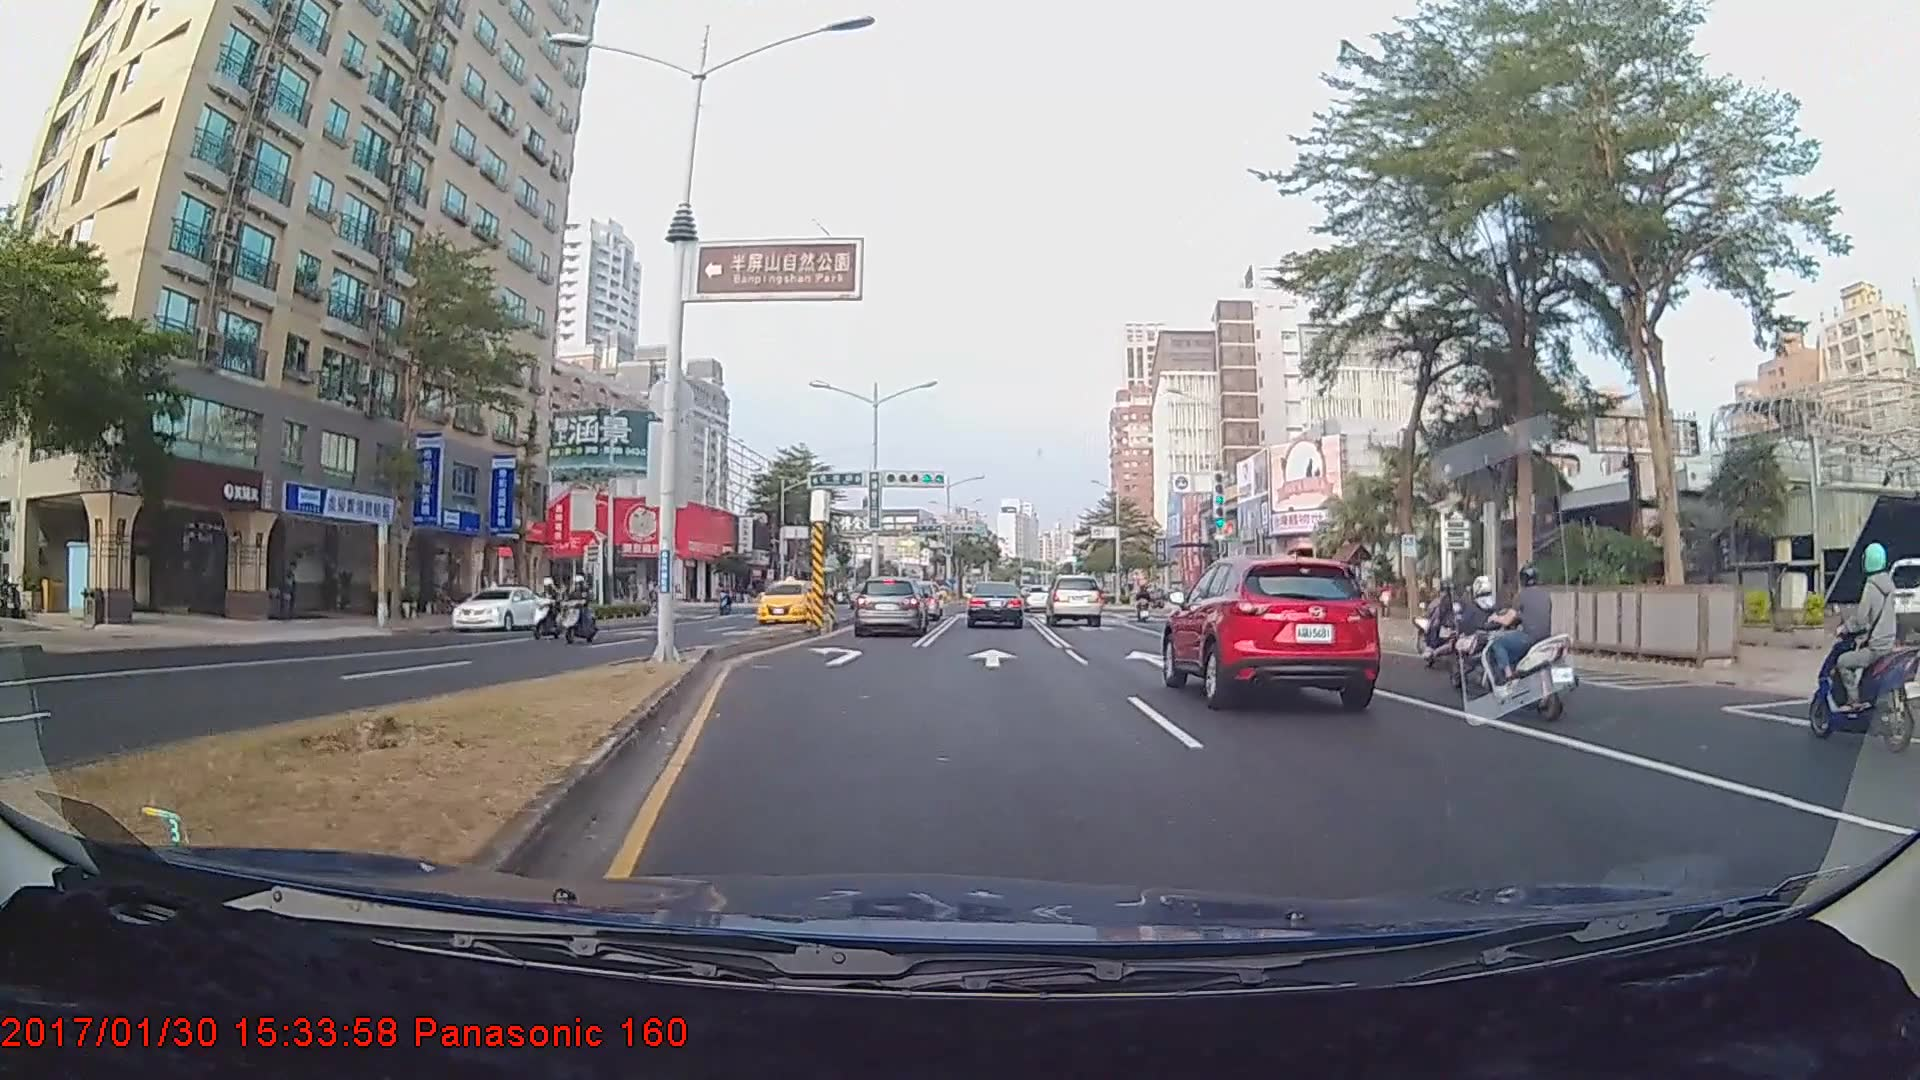rider: (1813, 535, 1918, 764), (1484, 564, 1592, 723), (1445, 569, 1518, 692), (1418, 573, 1474, 673), (556, 575, 598, 647), (529, 576, 568, 643)
vehicle: (1167, 551, 1381, 707), (852, 576, 928, 637), (451, 583, 546, 631), (1883, 558, 1920, 642), (1046, 573, 1103, 627), (965, 580, 1024, 630), (752, 581, 818, 625)
